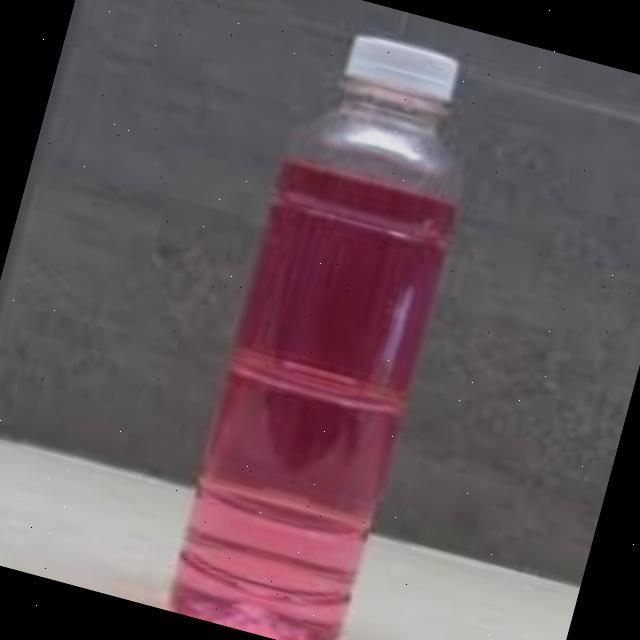trash: (150, 11, 508, 640)
